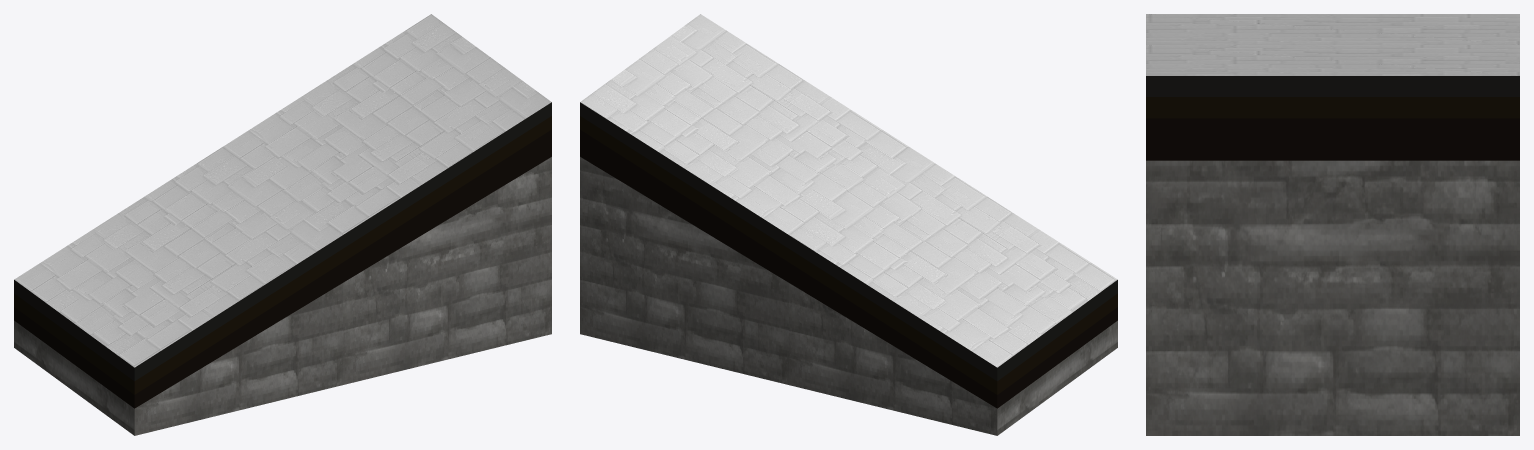
3 views of the same model, side by side, from view 1: azimuth 30°, elevation 25°; view 2: azimuth 150°, elevation 25°; view 3: azimuth 270°, elevation 25° (orthographic). The views are drawn at different scales.
Parts seen in each view (by area): view 1: 5468; view 2: 5468; view 3: 5468.
Part boxes in pixels (bbox=[...]): 5468: bbox=[14, 14, 551, 435]; 5468: bbox=[580, 14, 1117, 435]; 5468: bbox=[1146, 14, 1519, 435].
Bounding box in the file's own units: 2.56 × 1.36 × 1.28.
Materials: 3 (2 with a texture image).
